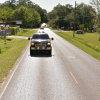Car: (24, 27, 64, 63)
